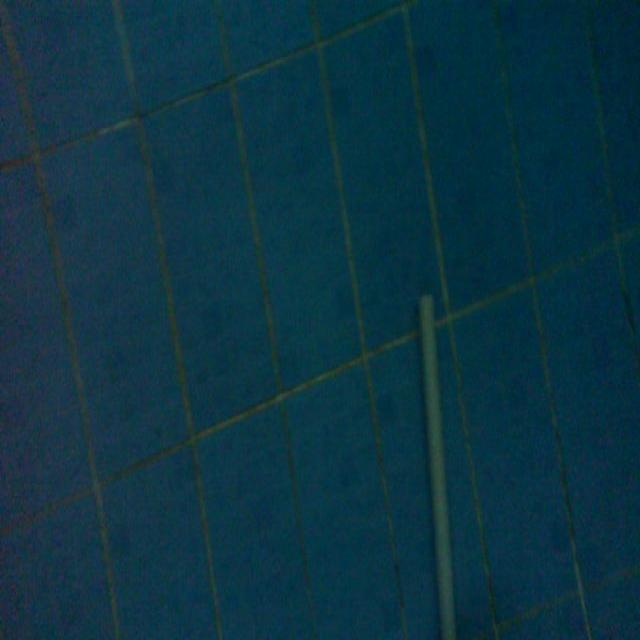Cube: (415, 288, 459, 636)
